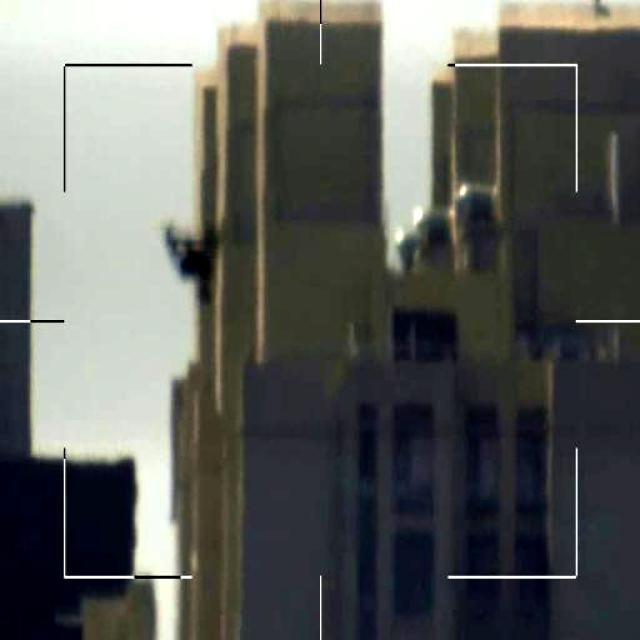bird: (155, 220, 215, 306)
